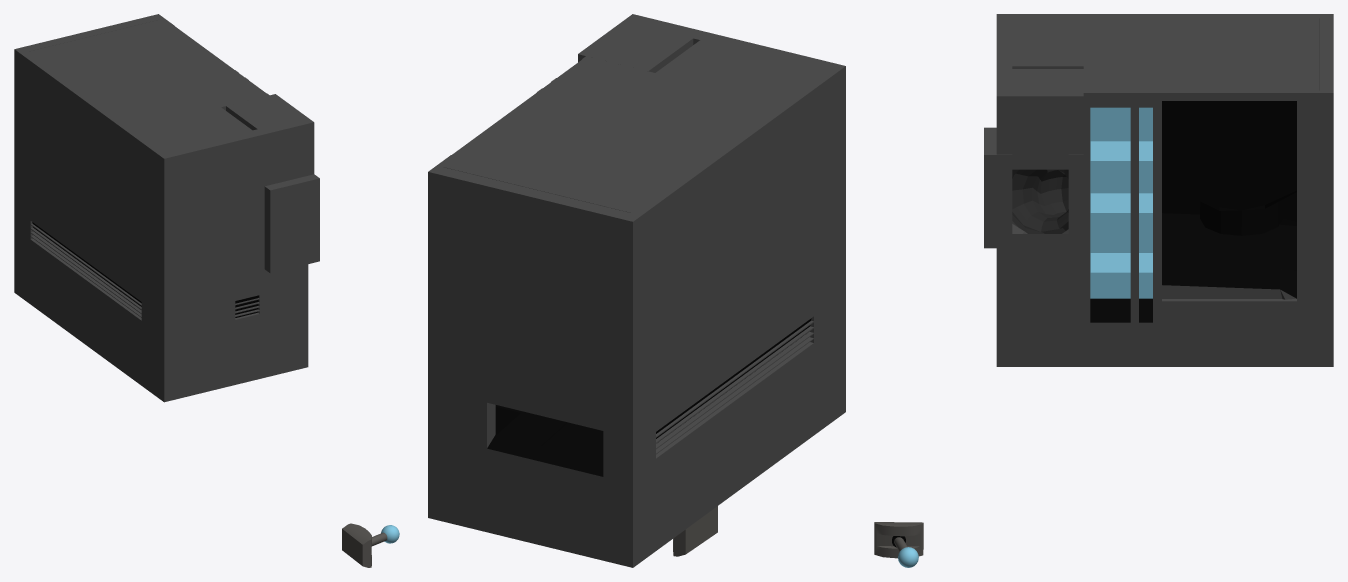
Rendered from transmutador.fbx.
3 renders of one model, left to right at view 1: azimuth 30°, elevation 25°; view 2: azimuth 150°, elevation 25°; view 3: azimuth 270°, elevation 25°, orthographic. The views are drawn at different scales.
Visible parts, largest first — view 1: Plano, pasted__pasted__pSphere4.003; view 2: Plano, pasted__pasted__pSphere4.003; view 3: Plano, Plano.001, Cilindro, pasted__pasted__pSphere4.003, Plano.003, Plano.004, Plano.005.
Part boxes in pixels (x1=…): Plano: x1=14, y1=14, x2=319, y2=402; pasted__pasted__pSphere4.003: x1=342, y1=523, x2=371, y2=567; Plano: x1=428, y1=14, x2=845, y2=567; pasted__pasted__pSphere4.003: x1=673, y1=506, x2=717, y2=556; Plano: x1=984, y1=14, x2=1333, y2=366; Plano.001: x1=1162, y1=128, x2=1296, y2=235; Cilindro: x1=1012, y1=169, x2=1068, y2=233; pasted__pasted__pSphere4.003: x1=874, y1=522, x2=923, y2=558; Plano.003: x1=1090, y1=141, x2=1152, y2=164; Plano.004: x1=1090, y1=193, x2=1152, y2=216; Plano.005: x1=1090, y1=253, x2=1152, y2=275.
Bounding box in the file's own units: 6.19 × 12.33 × 11.23.
